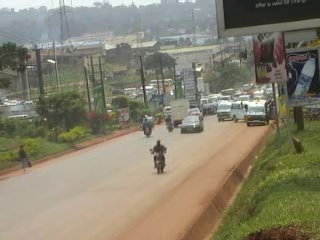Car: (180, 112, 205, 135), (188, 106, 204, 121)
Motorcycle: (148, 136, 168, 174), (140, 115, 155, 137), (164, 113, 174, 134)
